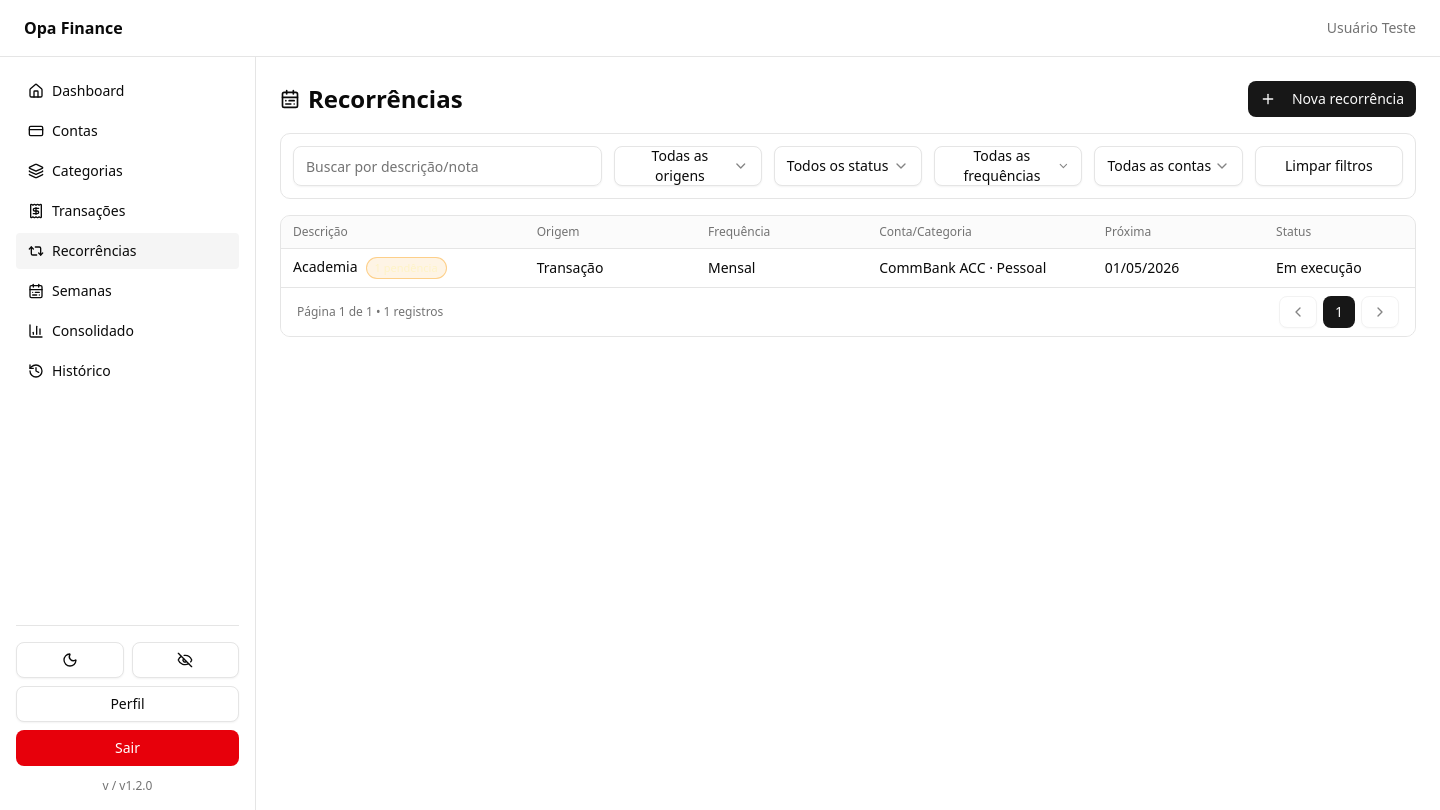
Test: recurrences feature › deve abrir detalhes e timeline da recorrência
This screenshot has width=1440, height=810.
Expected: the heading "Recorrências" is shown, [280, 83, 463, 115]
Expected: the text "Academia" is shown, [293, 257, 358, 276]
What coordinates should you click on to do the following:
click the button that starts with "Academia"
I would click on:
 (325, 266)
Its box is [293, 257, 1362, 279].
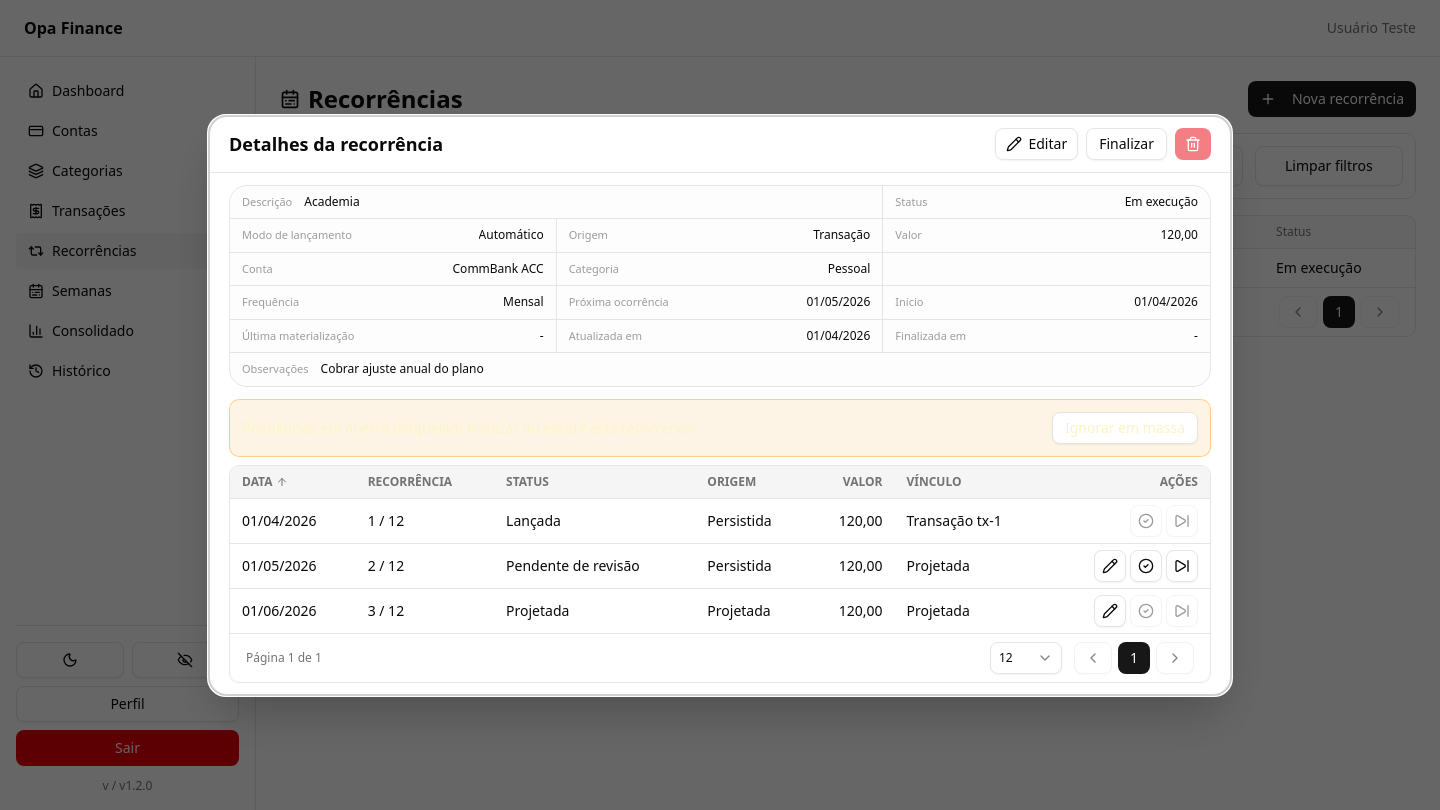
Now the heading "Detalhes da recorrência" is shown, box [229, 130, 443, 158]
Now the text "Observações" is shown, box [242, 361, 308, 378]
Now the text "Cobrar ajuste anual do plano" is shown, box [320, 361, 484, 377]
